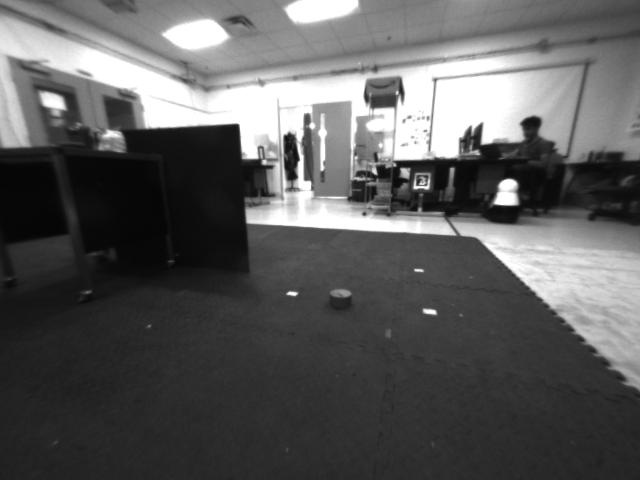dogtoy: (318, 277, 361, 317)
